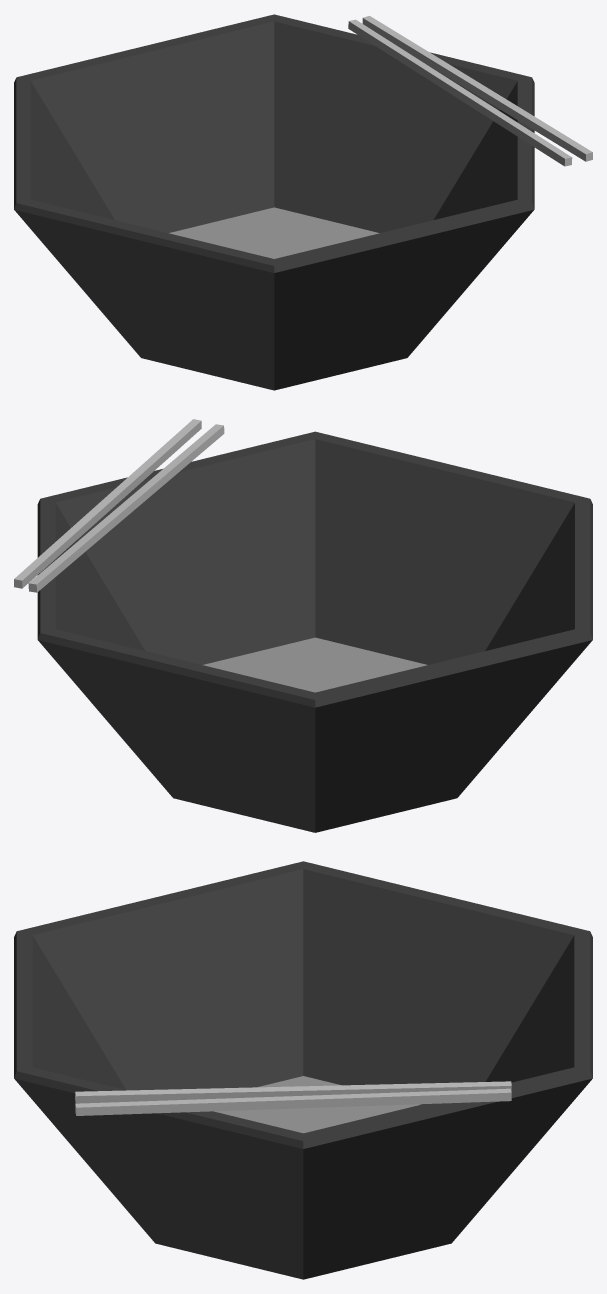
Rendered from bowl_ramen_B.FBX.
3 views of the same model, one above another, from view 1: azimuth 30°, elevation 25°; view 2: azimuth 150°, elevation 25°; view 3: azimuth 270°, elevation 25° (orthographic). The views are drawn at different scales.
Parts seen in each view (by area): view 1: bowl_ramen_B; view 2: bowl_ramen_B; view 3: bowl_ramen_B.
Boxes of the visible parts, x1,y1,x2,y2 form: bowl_ramen_B: (14,14,592,390); bowl_ramen_B: (14,419,592,832); bowl_ramen_B: (14,861,592,1279).
Bounding box in the file's own units: 28.94 × 10.4 × 25.06.
